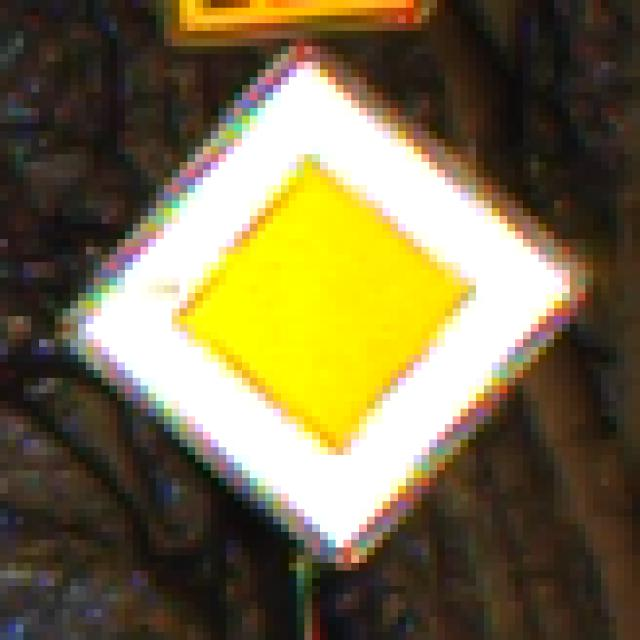Main Road: (56, 63, 586, 587)
